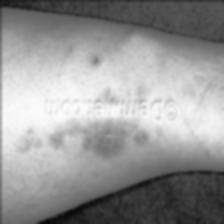Unclassified: (18, 122, 164, 158), (61, 50, 153, 96)
